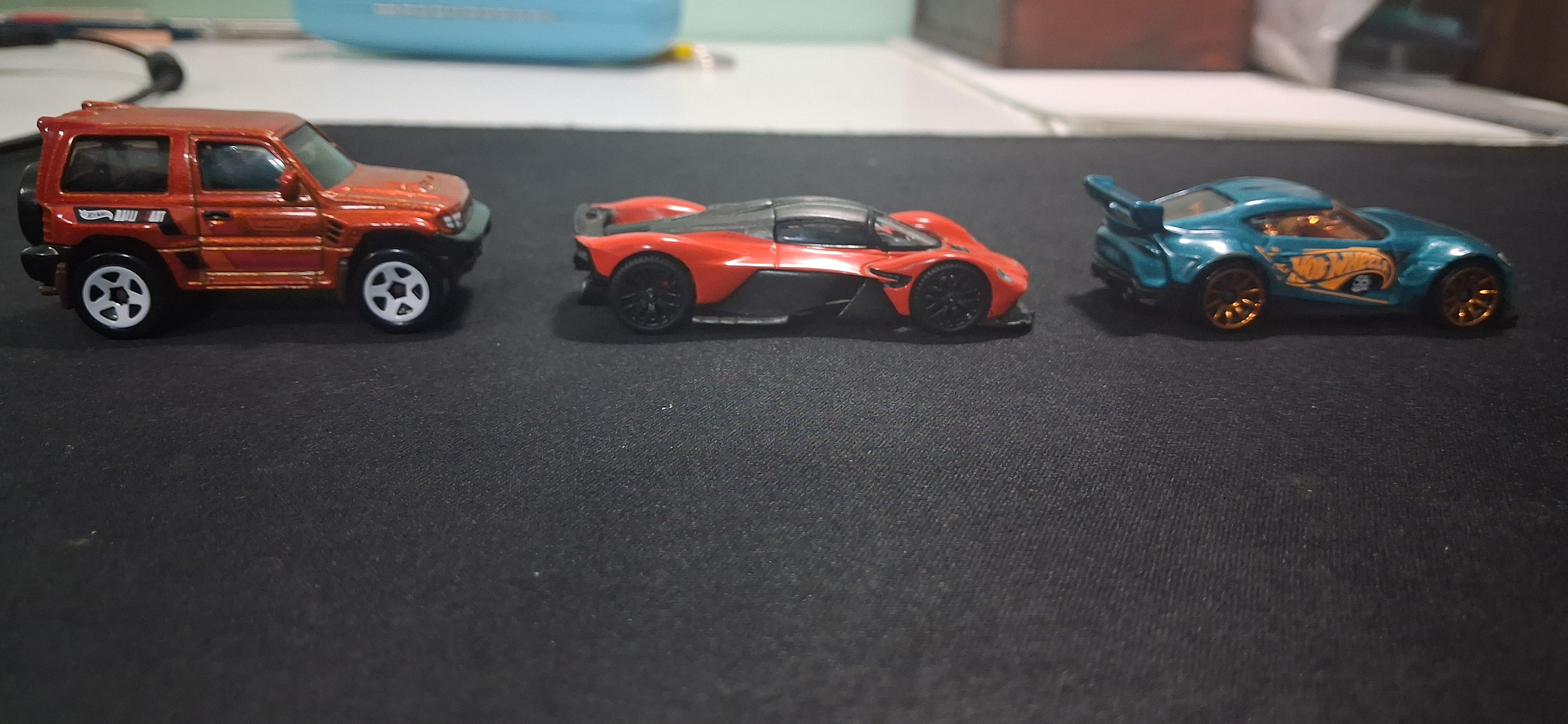Aston_Martin_Valkyrie: (555, 110, 1061, 383)
Mitsubishi_Pajero_Evolution: (0, 77, 509, 366)
Toyota_GR_Supra: (1073, 108, 1526, 374)
